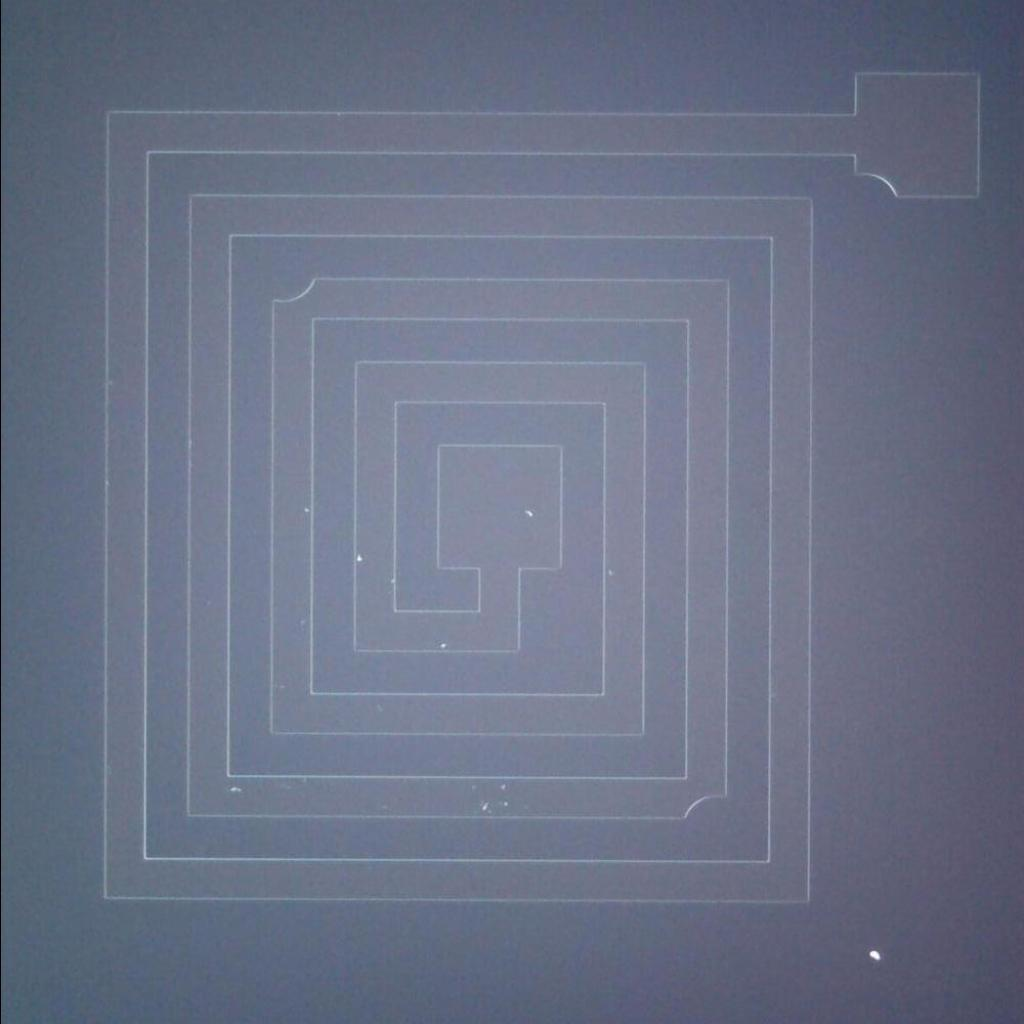curve circuit: (259, 267, 325, 314), (844, 162, 906, 210), (676, 784, 740, 830)
dot: (429, 637, 454, 657)
spot: (862, 941, 885, 972)
